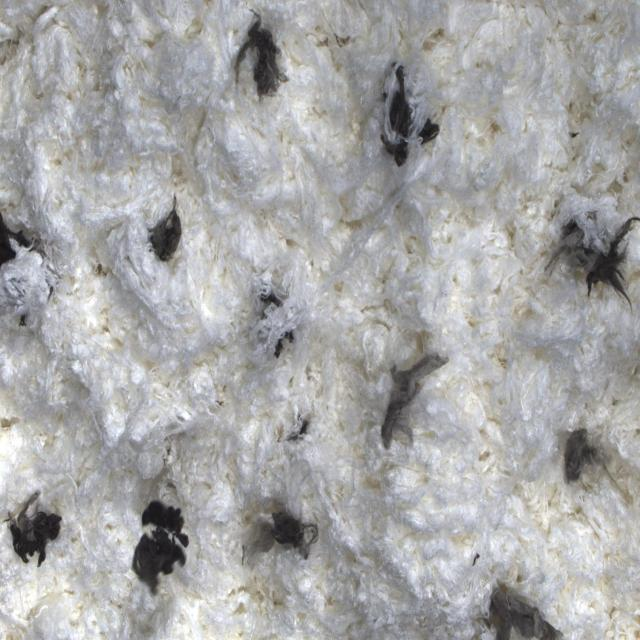dust: (542, 188, 640, 318), (375, 341, 451, 450), (124, 485, 194, 594), (555, 396, 618, 514), (466, 571, 572, 640), (0, 199, 53, 324), (231, 4, 294, 104), (236, 495, 320, 566), (0, 477, 64, 568), (378, 65, 418, 175), (143, 187, 185, 274), (257, 283, 296, 364), (411, 97, 445, 169), (276, 403, 324, 449)
